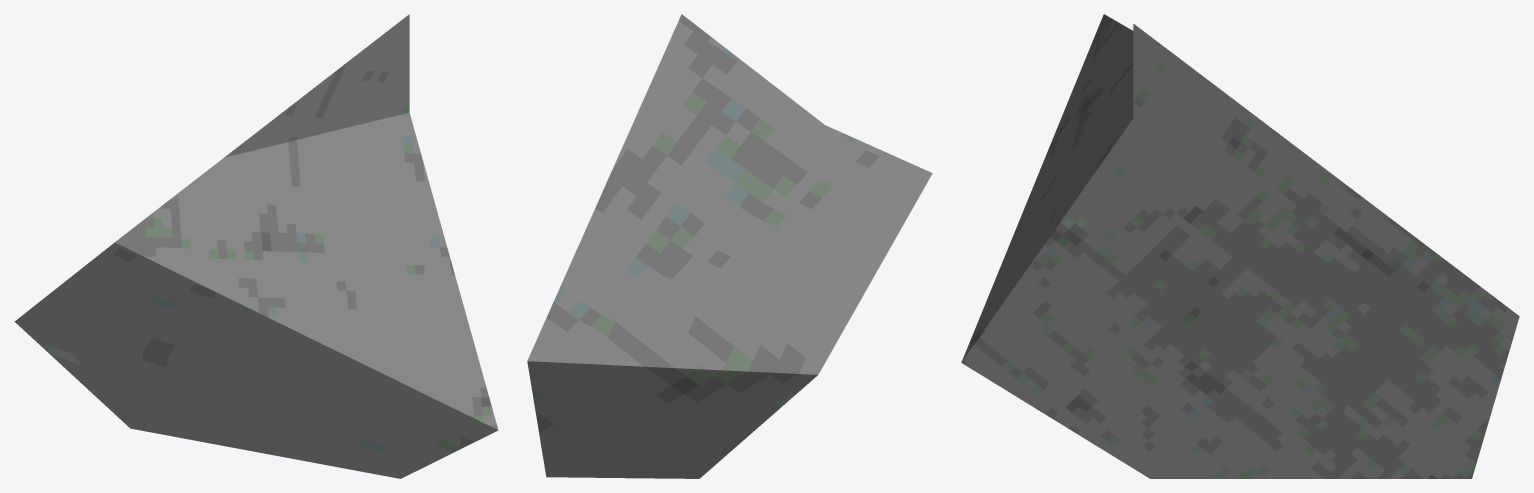
File: barriar_cell_009.glb
3 views of the same model, side by side, from view 1: azimuth 30°, elevation 25°; view 2: azimuth 150°, elevation 25°; view 3: azimuth 270°, elevation 25° (orthographic). The views are drawn at different scales.
Parts seen in each view (by area): view 1: Barriar_cell.009; view 2: Barriar_cell.009; view 3: Barriar_cell.009.
Boxes of the visible parts, x1,y1,x2,y2 form: Barriar_cell.009: (14, 14, 498, 478); Barriar_cell.009: (527, 14, 932, 478); Barriar_cell.009: (961, 14, 1519, 478).
Size of the model in its own units: 0.4235 by 0.6156 by 0.6837.
Materials: 1 (1 with a texture image).
